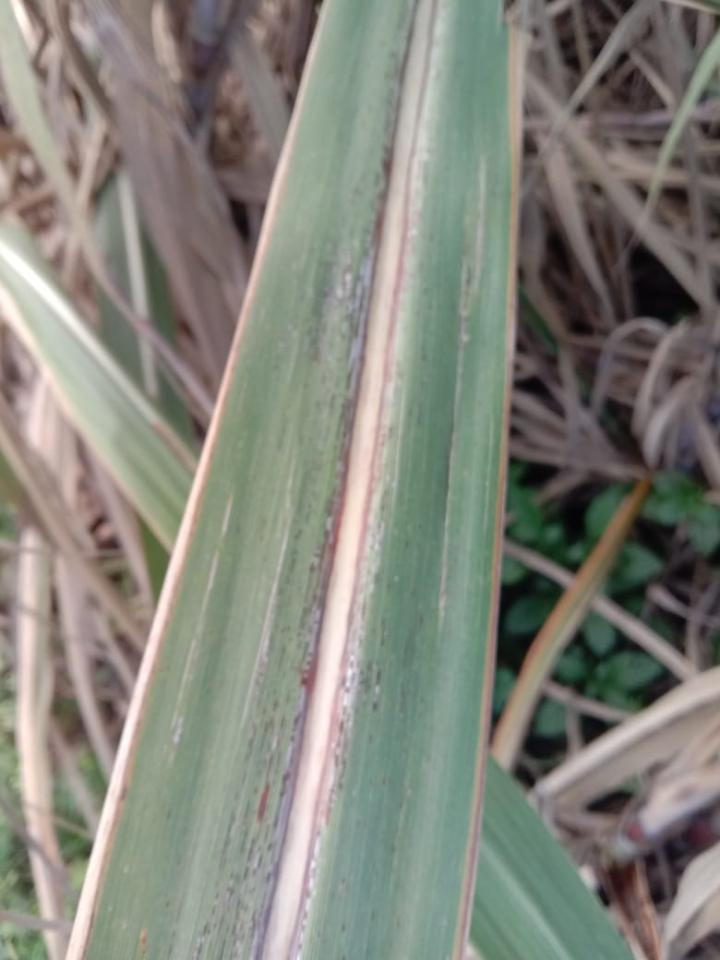Rust: (248, 209, 385, 959), (286, 514, 385, 959), (255, 781, 271, 824)
